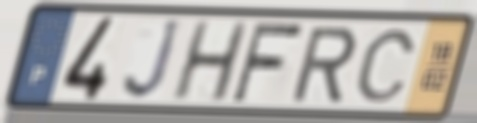4: (58, 13, 116, 103)
C: (352, 27, 420, 105)
F: (228, 20, 308, 105)
H: (168, 19, 251, 105)
J: (120, 17, 185, 103)
R: (288, 24, 360, 104)
